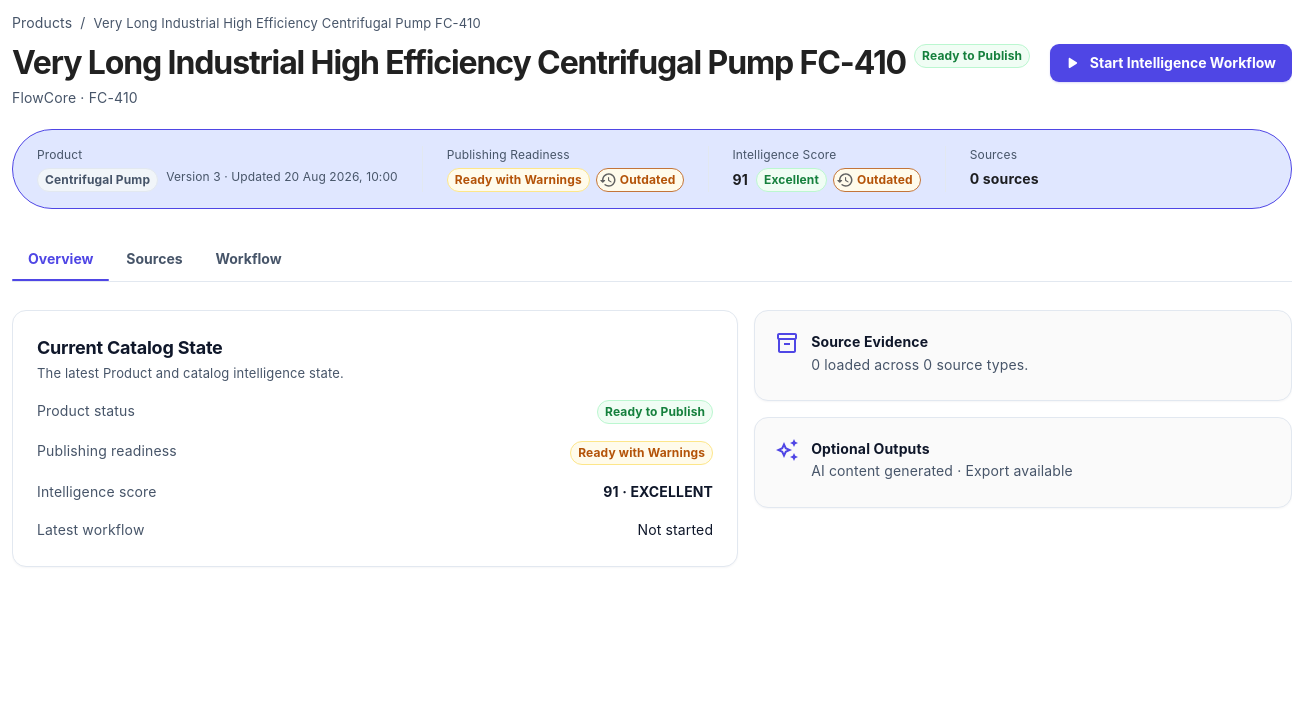
Test case: Product Workspace › uses the confirmed empty-source state to prevent workflow launch
Expected: the heading "Very Long Industrial High Efficiency Centrifugal Pump FC-410" is shown, [12,44,906,83]
Click the tab "Workflow": (248, 259) [199,237,298,281]
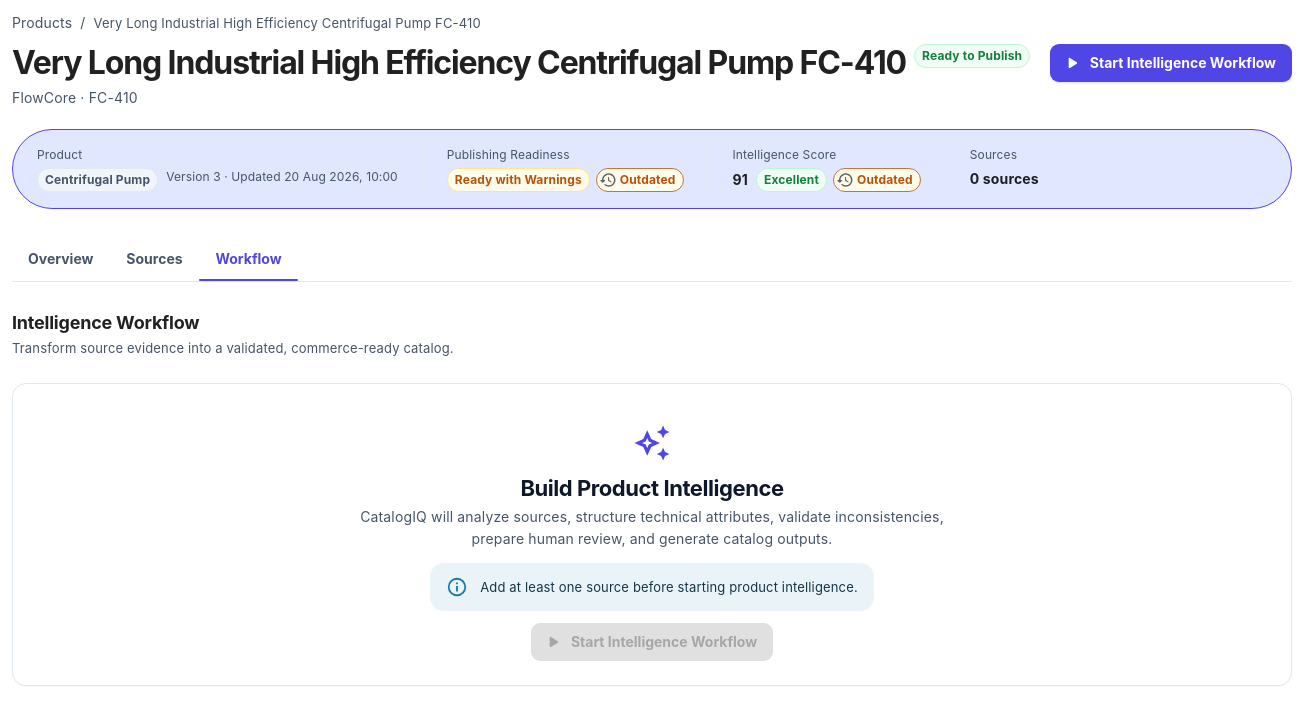
Expected: the text "Add at least one source before starting product intelligence." is shown, [480,579,858,595]
Expected: the button "Start Intelligence Workflow" below "Build Product Intelligence" is disabled, [531,623,773,661]
